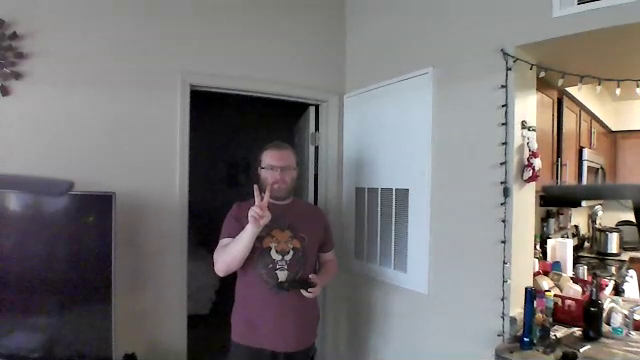peace: (243, 178, 278, 233)
